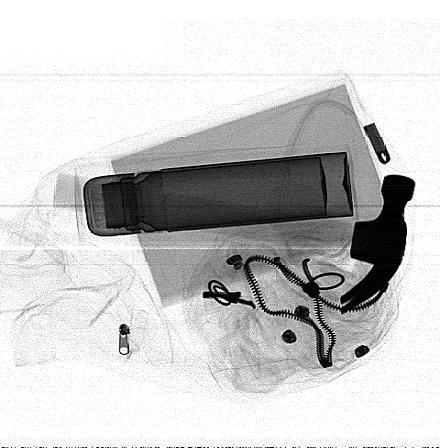Hammer: (53, 172, 417, 315)
